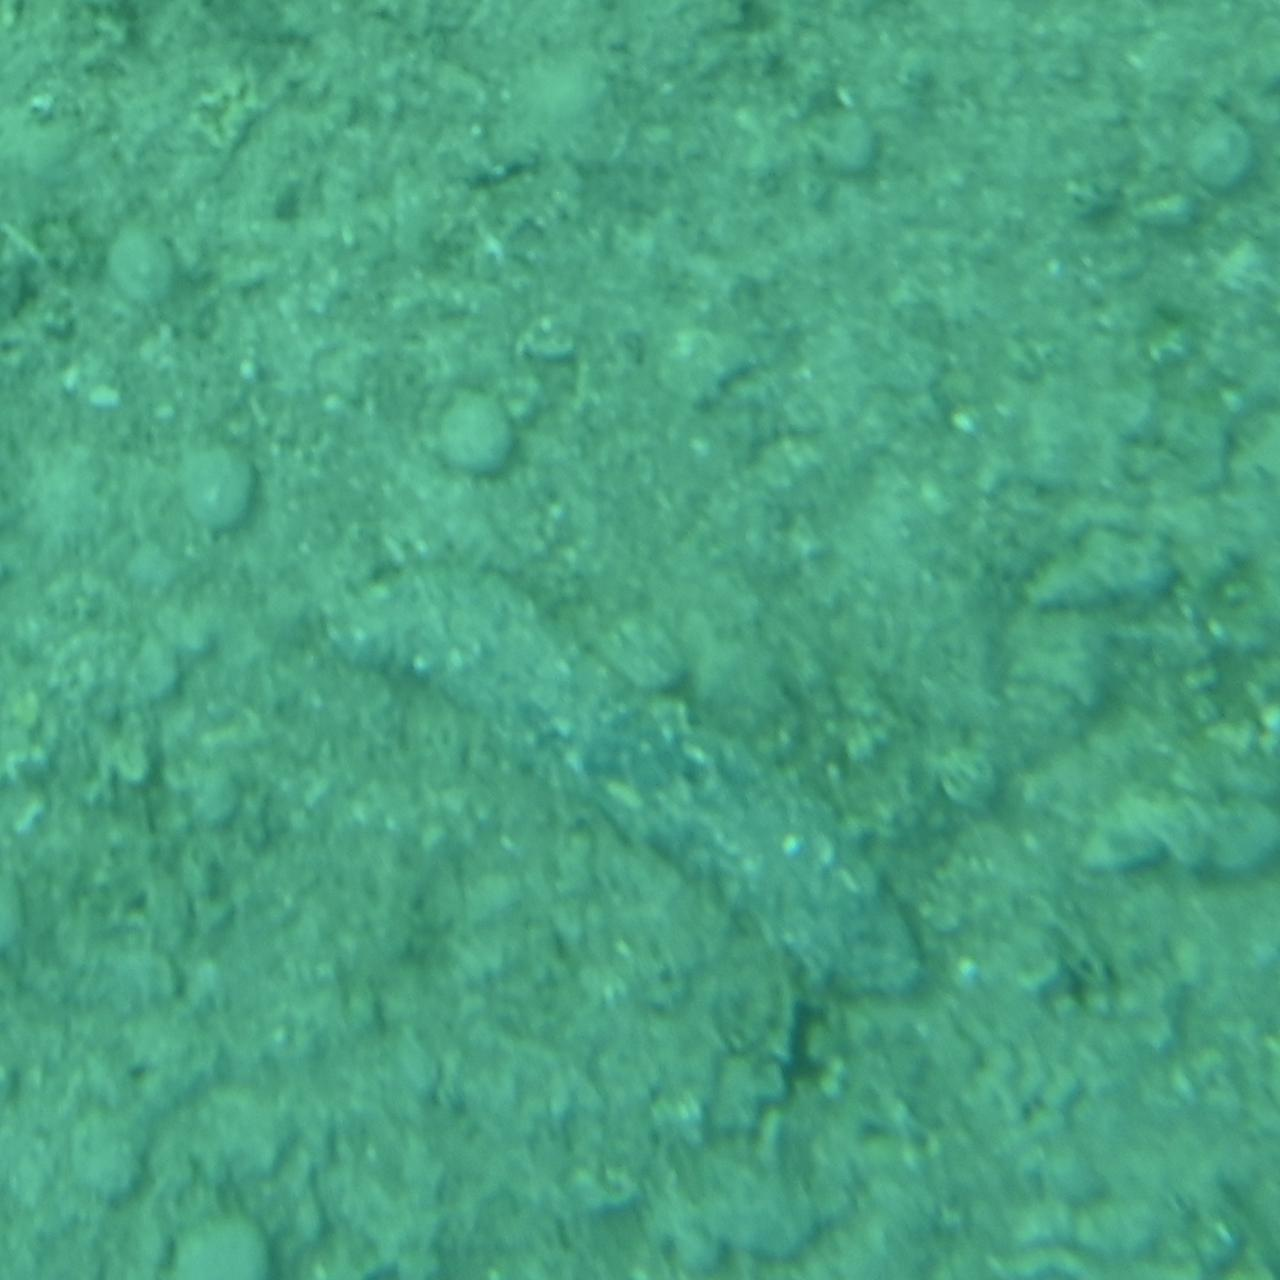Holothuria tubulosa: (340, 568, 940, 1036)
